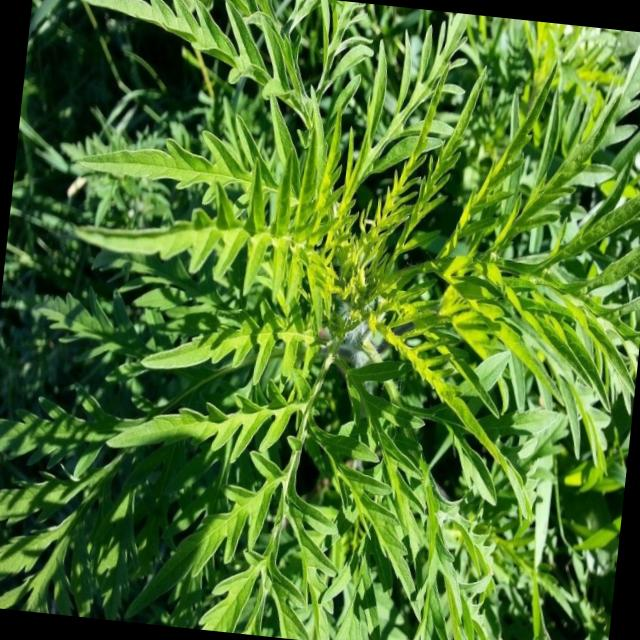ambrosia: (406, 127, 639, 416), (126, 94, 404, 336), (189, 354, 401, 632)
